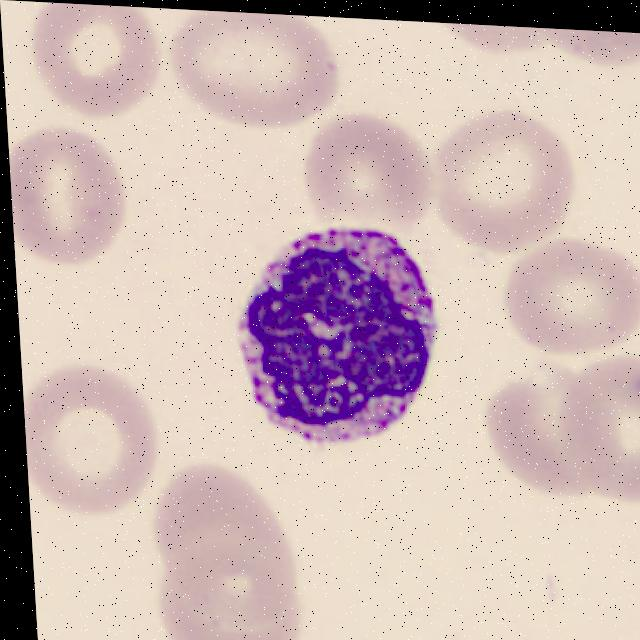basophil: (227, 216, 436, 459)
rbc: (22, 370, 157, 530), (173, 9, 348, 129), (484, 388, 617, 524), (8, 139, 140, 274), (486, 258, 640, 373), (298, 116, 433, 240), (437, 121, 580, 238), (157, 531, 320, 616), (145, 465, 290, 560), (134, 562, 309, 640), (34, 2, 159, 109), (556, 348, 640, 504), (426, 22, 540, 73), (536, 28, 639, 79), (611, 617, 640, 640)
